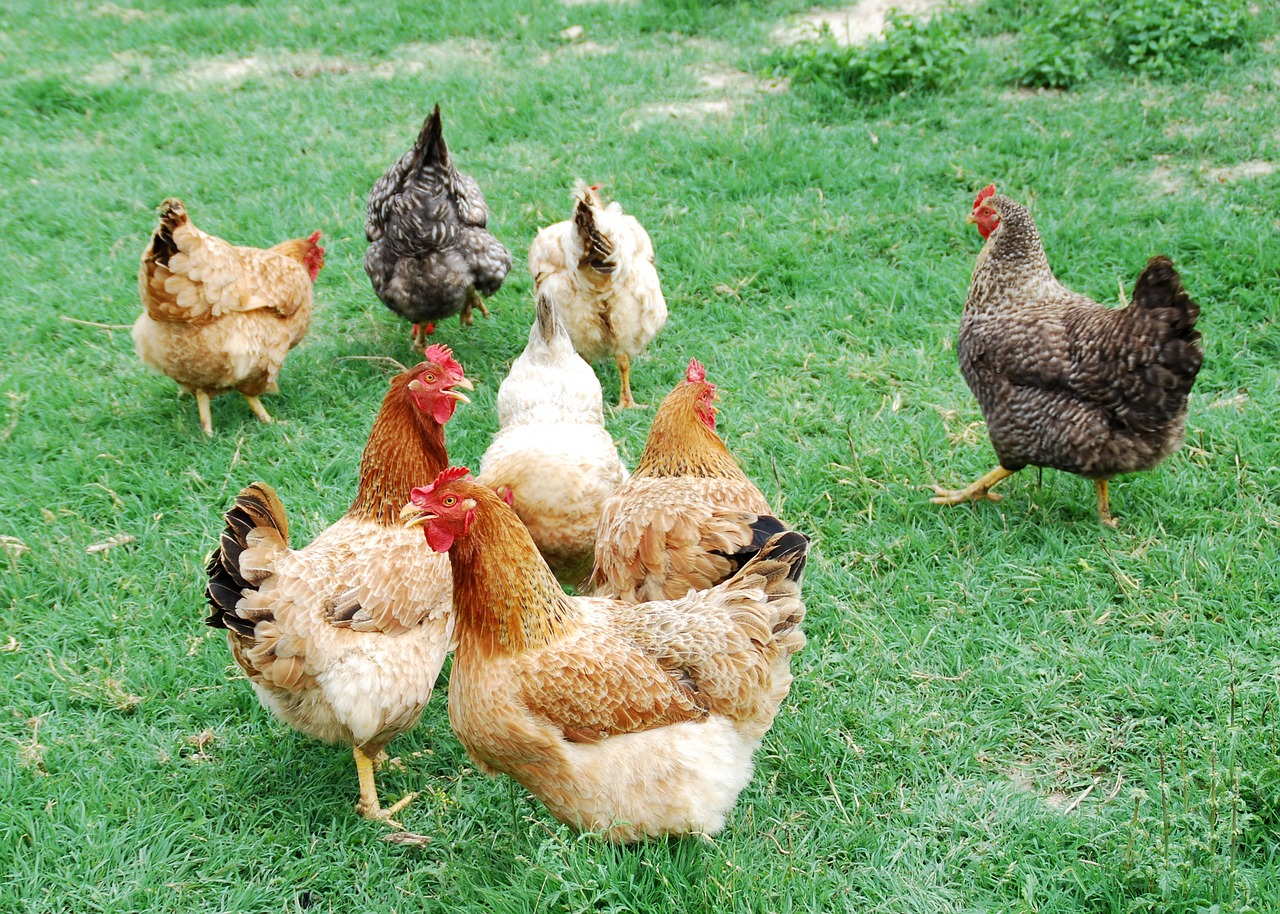chicken: (399, 465, 813, 833), (212, 340, 469, 853), (948, 175, 1179, 528), (124, 188, 326, 434), (593, 356, 780, 592), (357, 101, 513, 345), (488, 312, 626, 581), (521, 179, 669, 402)
